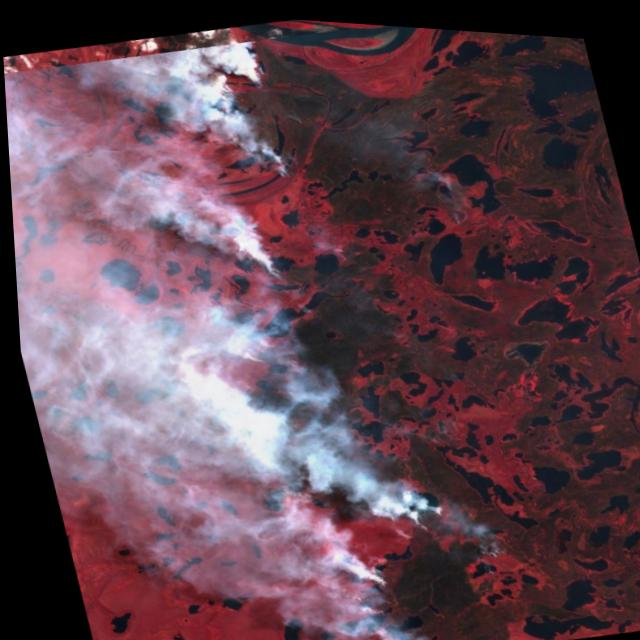fire: (134, 7, 500, 640)
